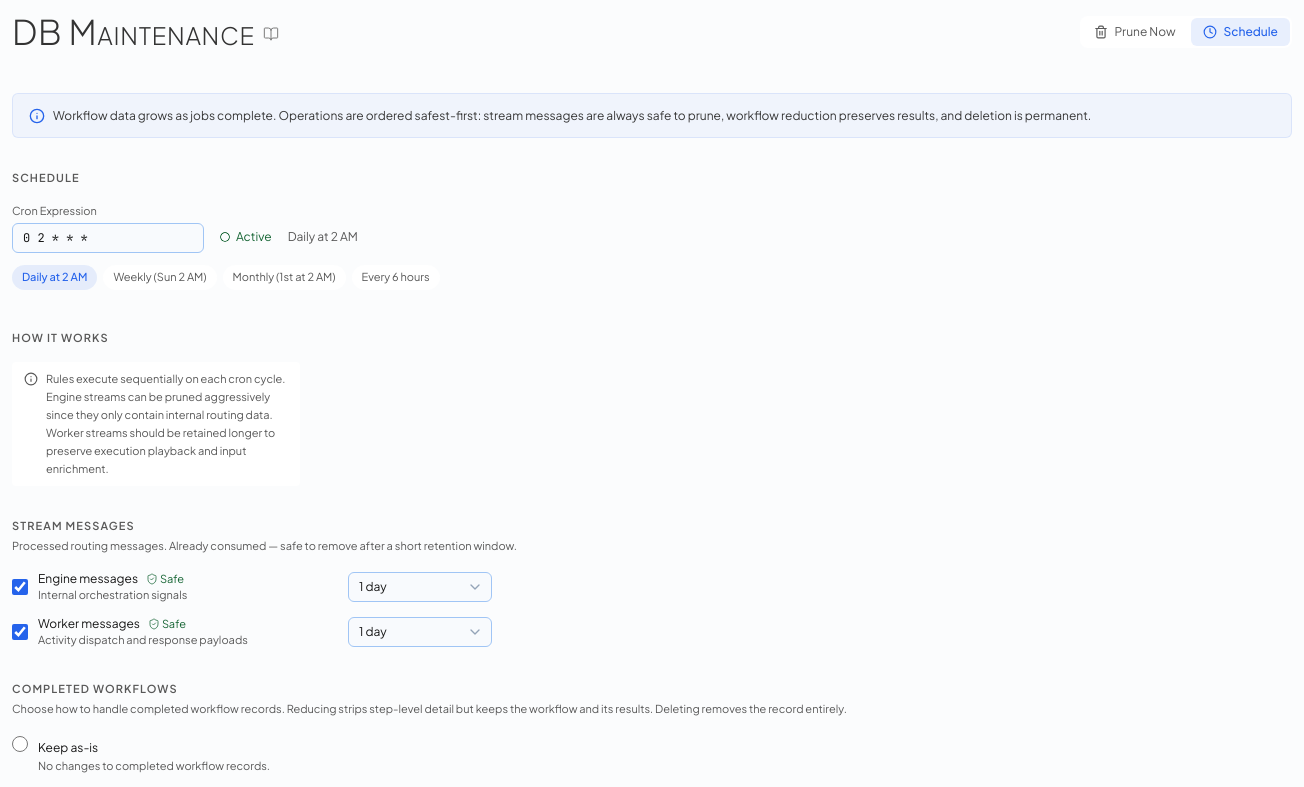
MaintenancePage - Prune mode › shows the destructive warning text
Click the button "Prune Now": (1135, 32) 1082,18 -> 1188,46
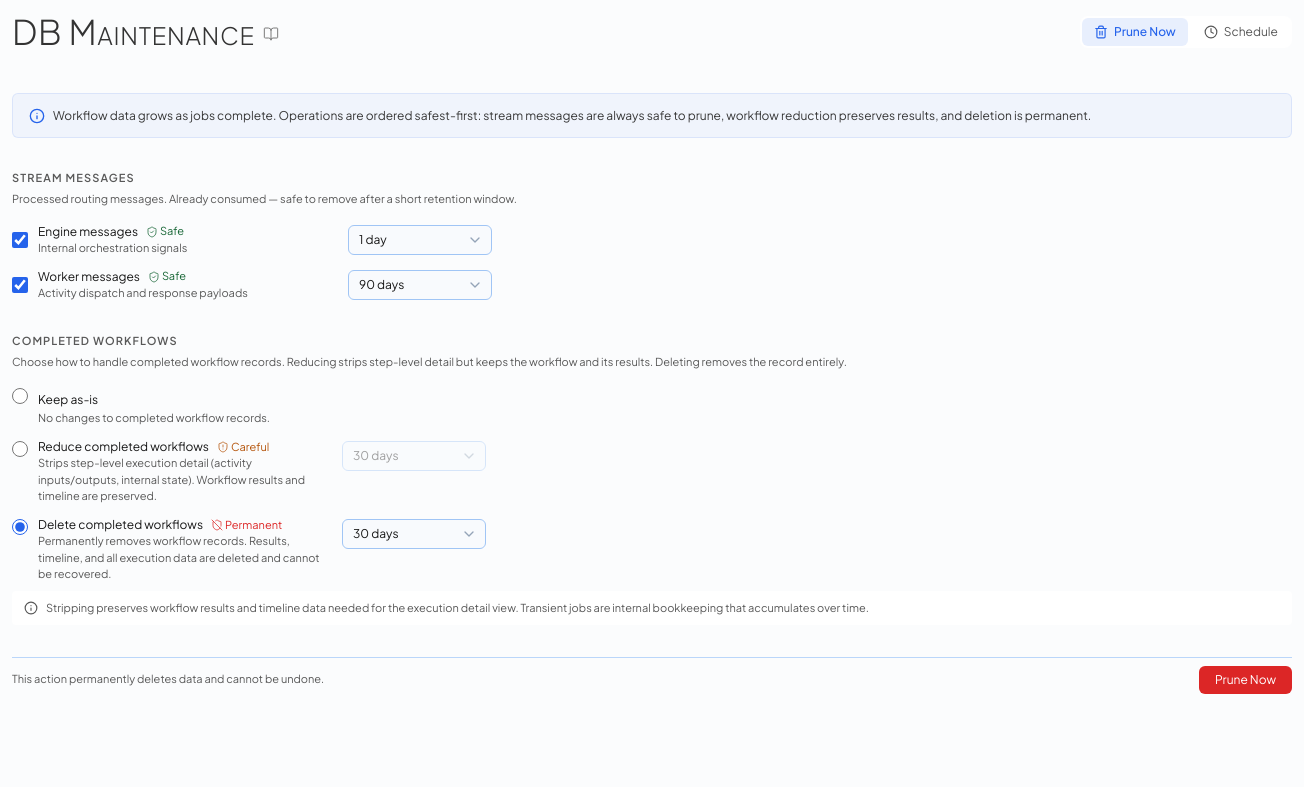
Expected: the text "This action permanently deletes data and cannot be undone." is shown, 12,671 -> 324,688
